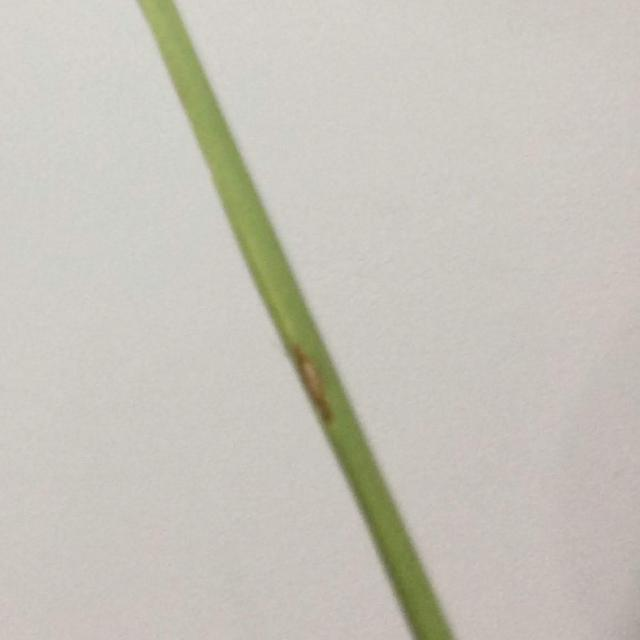Blast: (294, 352, 342, 414)
